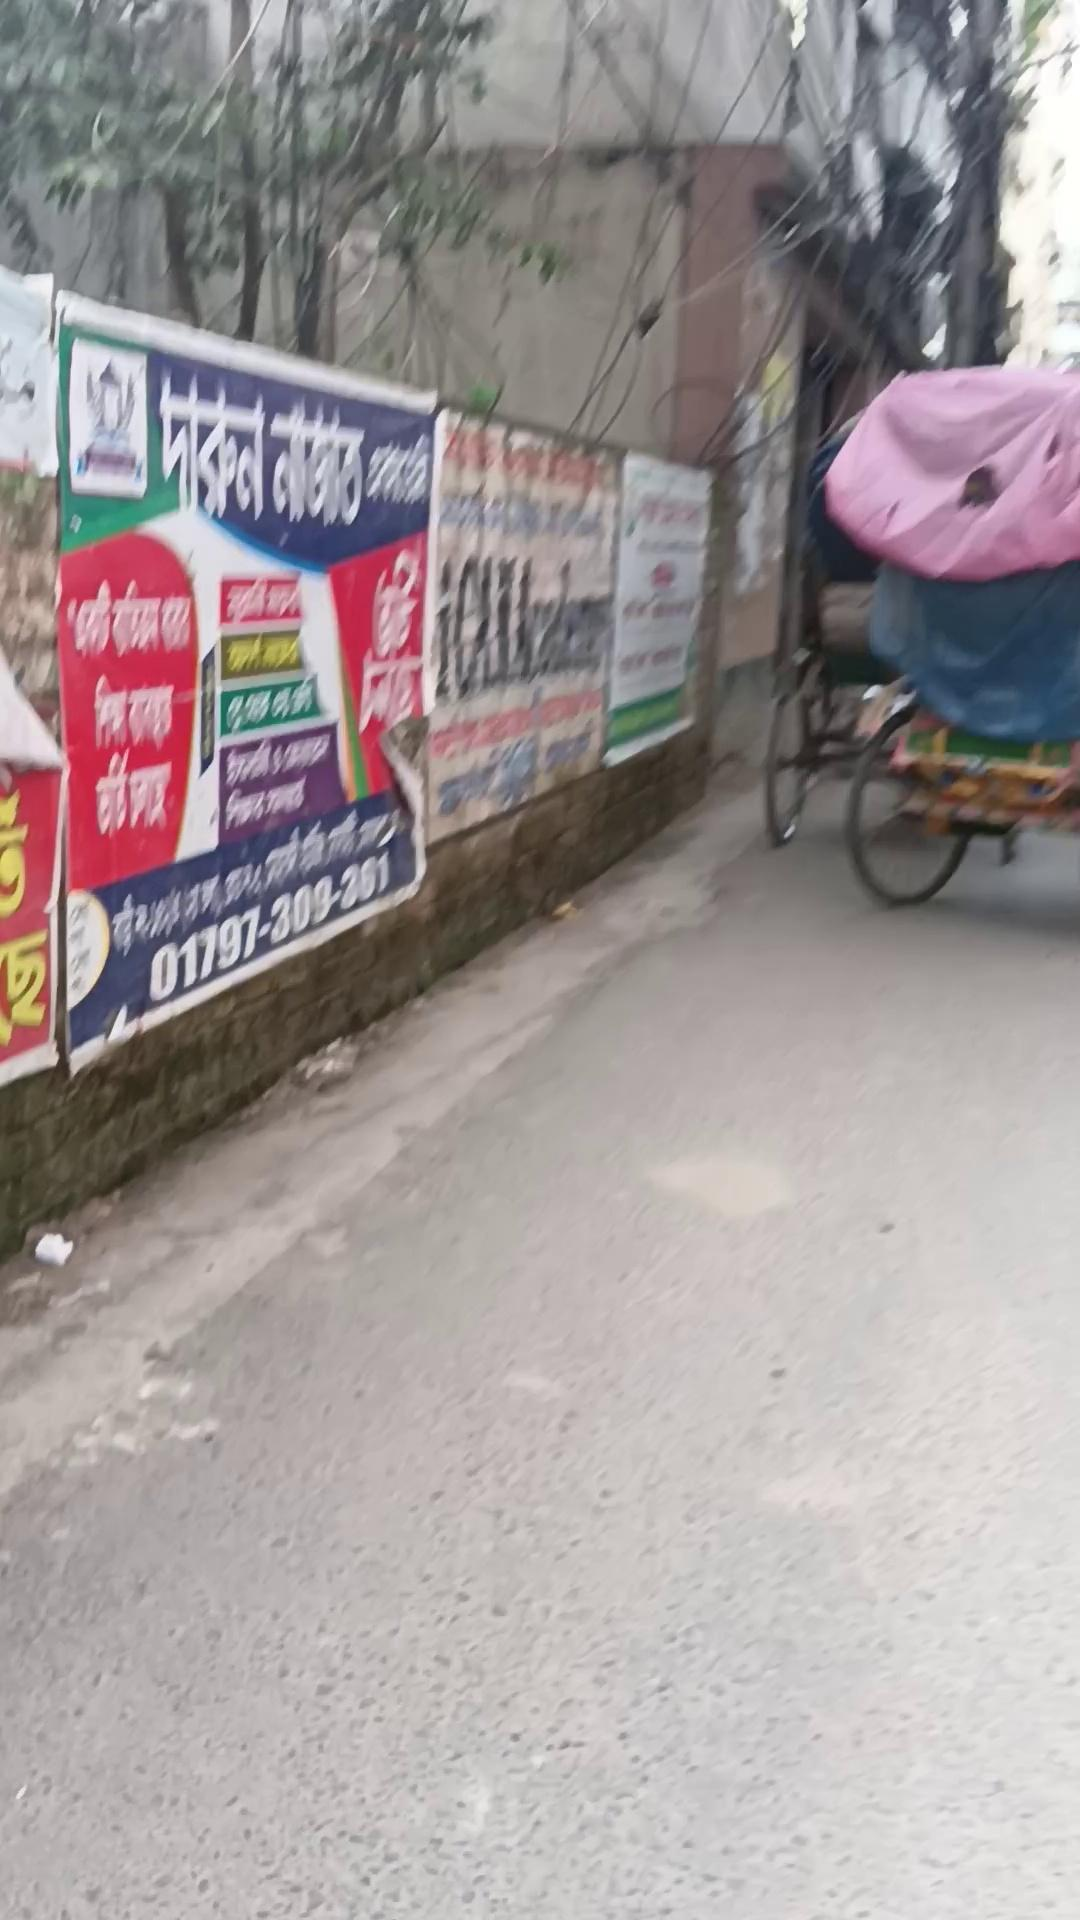Pothole: (761, 411, 1076, 907)
Tree: (3, 287, 533, 1278)
